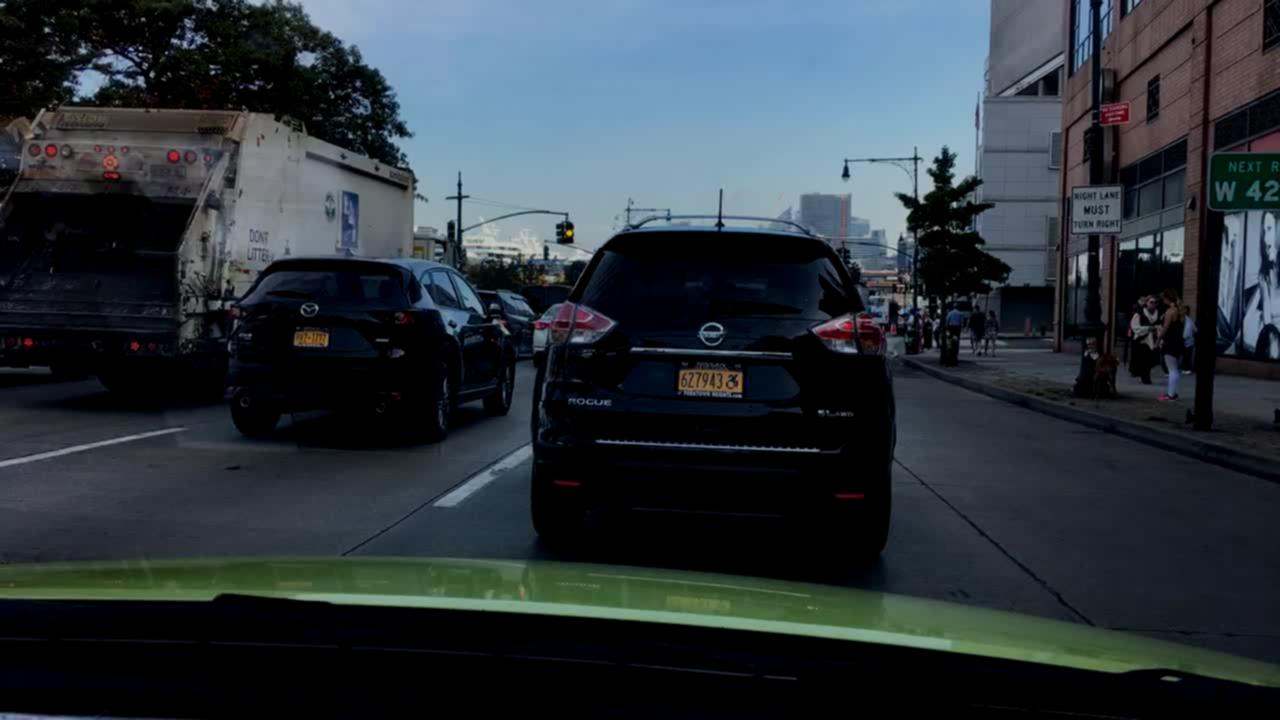Mazda: (290, 293, 333, 327)
Nissan: (690, 316, 738, 349)
